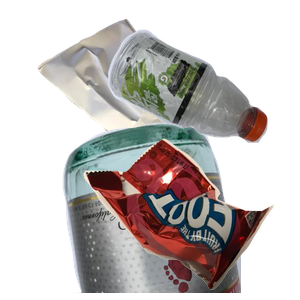glass: (60, 120, 300, 300)
paper: (35, 10, 237, 178)
plastic: (105, 27, 300, 162)
trash: (81, 136, 300, 300)
